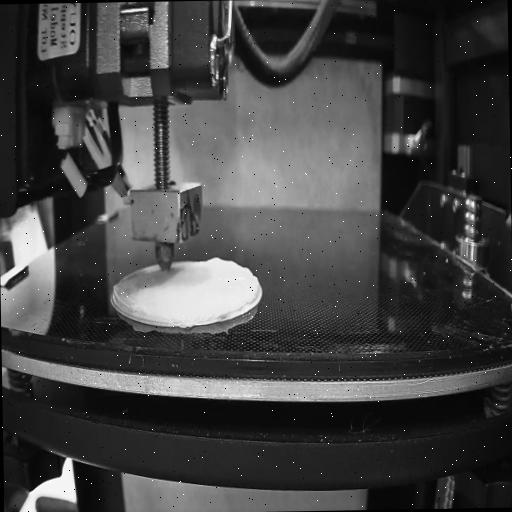over_extrusion: (202, 252, 263, 314), (110, 285, 138, 313)
